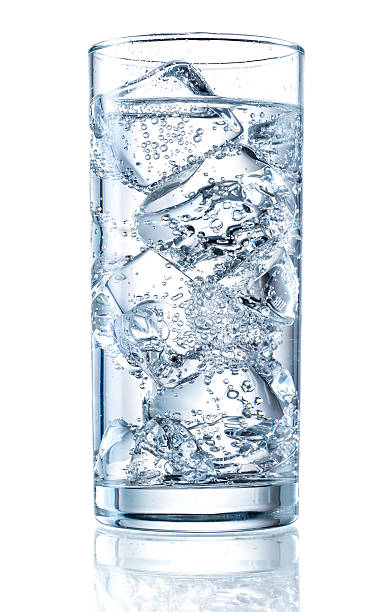glass of water: (83, 35, 314, 542)
